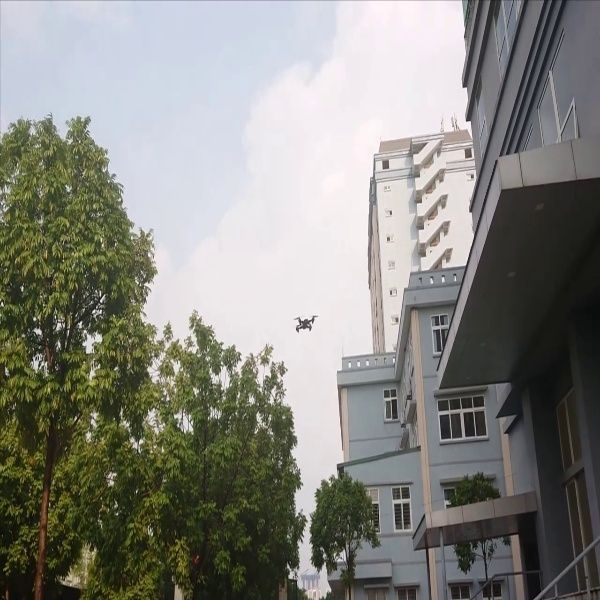drone: (285, 309, 320, 337)
